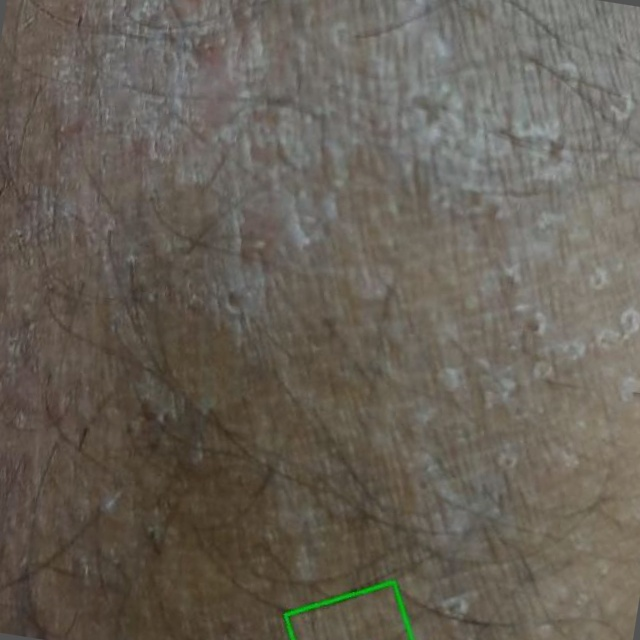Contact Dermatitis: (286, 583, 411, 639)
